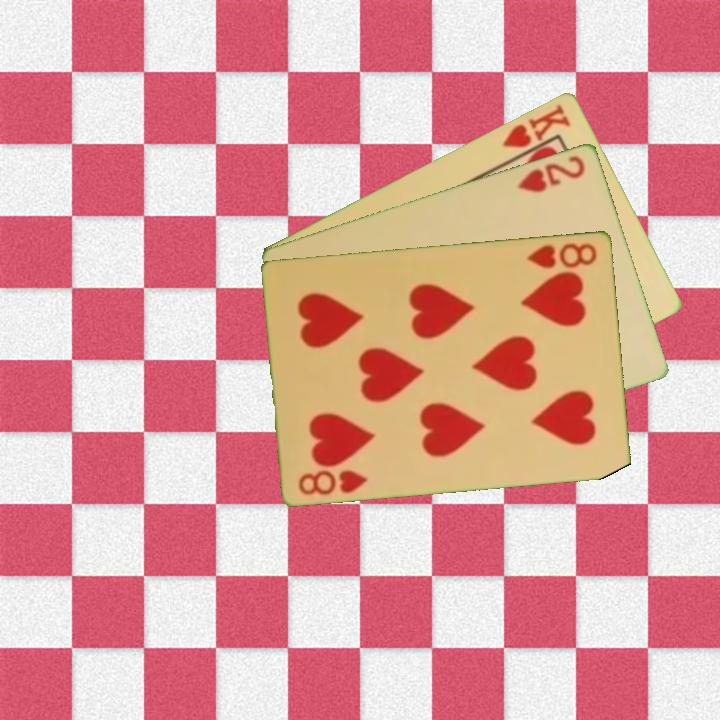2h: (514, 151, 589, 195)
8h: (295, 465, 370, 498), (524, 239, 600, 271)
Kh: (499, 100, 574, 164)
